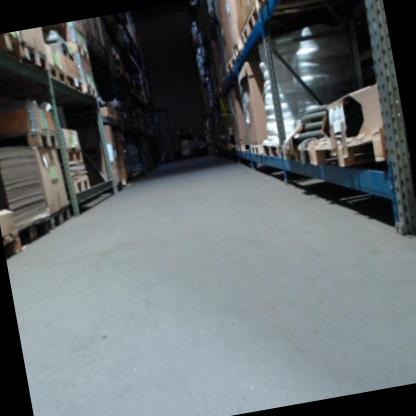pallet: (306, 124, 388, 176), (15, 215, 52, 247), (21, 37, 50, 74), (26, 125, 59, 152), (0, 30, 23, 62), (45, 205, 73, 231), (243, 0, 262, 35), (250, 142, 281, 159), (48, 62, 67, 87), (237, 20, 251, 49), (70, 174, 90, 194), (64, 145, 84, 164), (72, 40, 90, 61), (222, 52, 237, 75), (256, 0, 279, 14), (99, 103, 115, 120), (232, 40, 243, 61), (234, 142, 248, 153)
